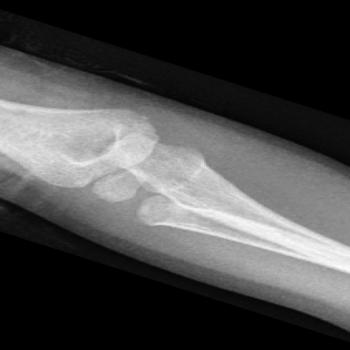Fracture: (94, 193, 183, 232)
